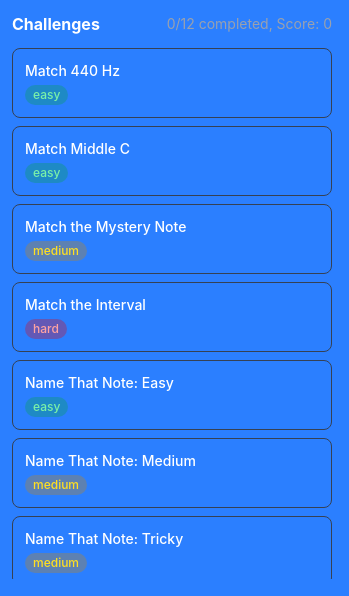
Scenario: ChallengePanel › shows note options for name-that-note challenge
Step 1. Click the list item with test id "challenge-item-name-a4" → (172, 395), box [12,360,332,430]
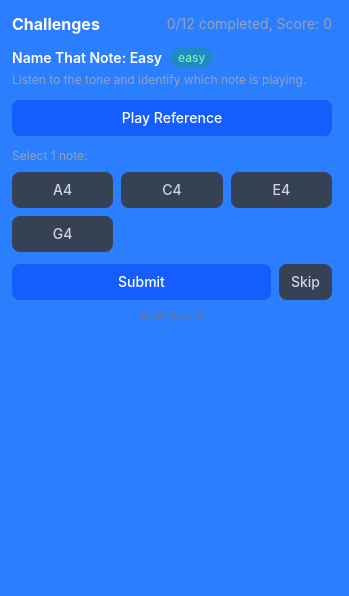
expect the element with test id "name-note-input" is shown: met, box [12,148,332,252]
expect the button with test id "note-option-A4" is shown: met, box [12,172,113,208]
expect the button with test id "note-option-C4" is shown: met, box [121,172,223,208]
